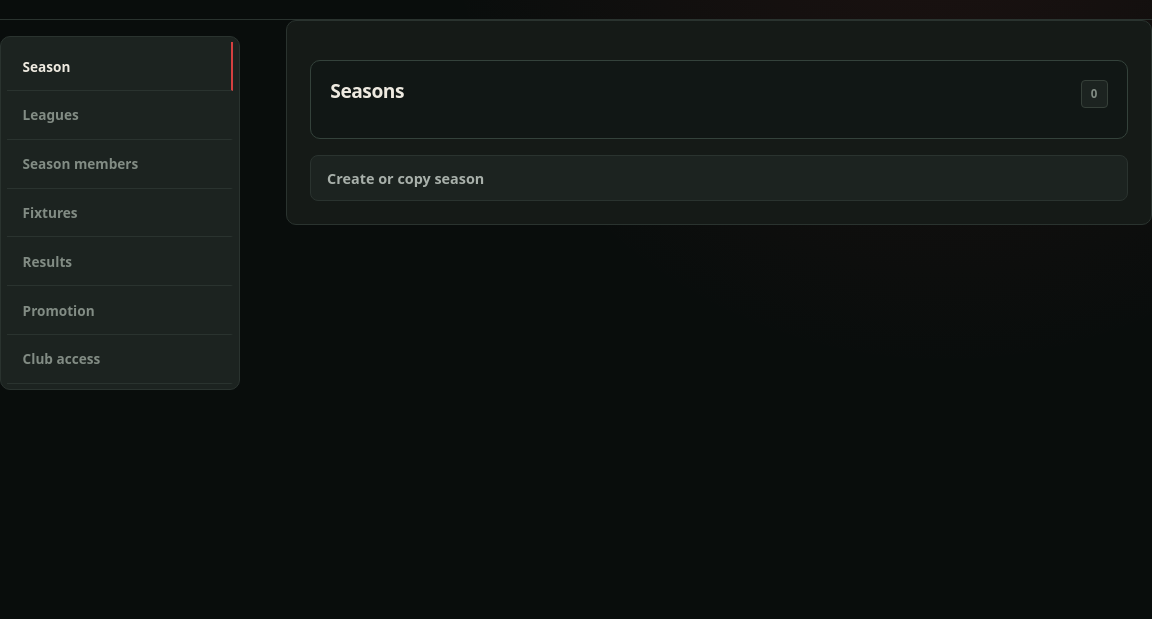
Scenario: admin membership, placement and club-admission controls › shows club-wide invite usage, expiry and revocation with a working copy action
This screenshot has width=1152, height=619.
Click the tab "Club access" at x=120, y=359, box top-left (7, 335), bottom-right (233, 384)
(page scrolled)
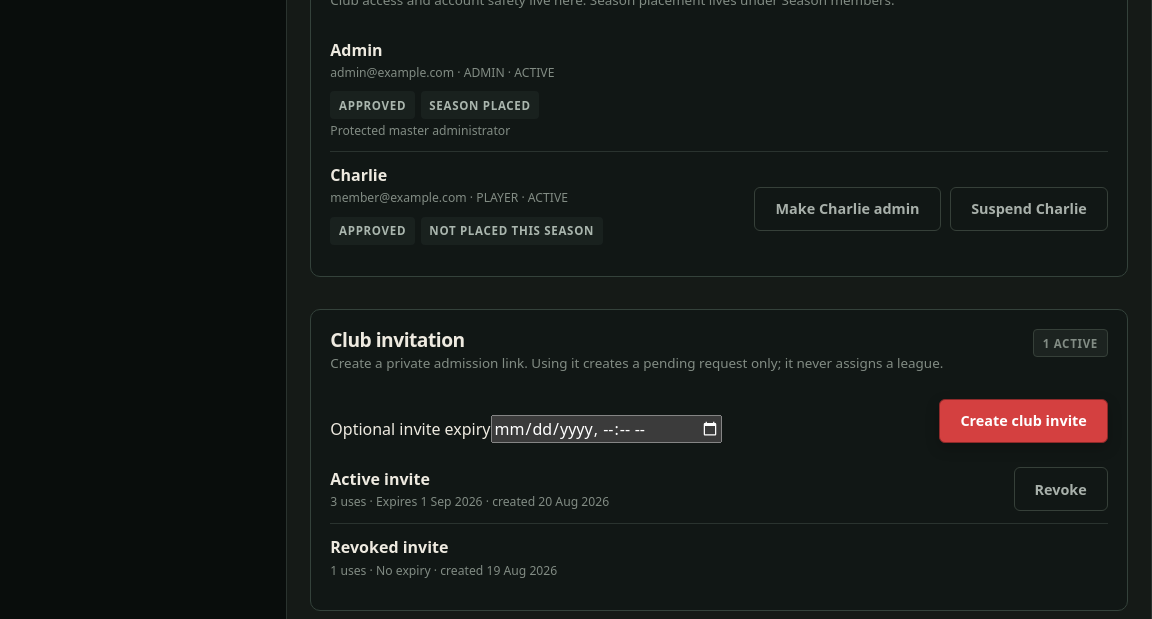
Now the text "3 uses · Expires 1 Sep 2026 · created 20 Aug 2026" is shown, box top-left (330, 494), bottom-right (609, 510)
Now the text "Revoked invite" is shown, box top-left (330, 536), bottom-right (448, 558)
Click the button "Create club invite" at x=1024, y=421, box top-left (939, 399), bottom-right (1108, 443)
(page scrolled)
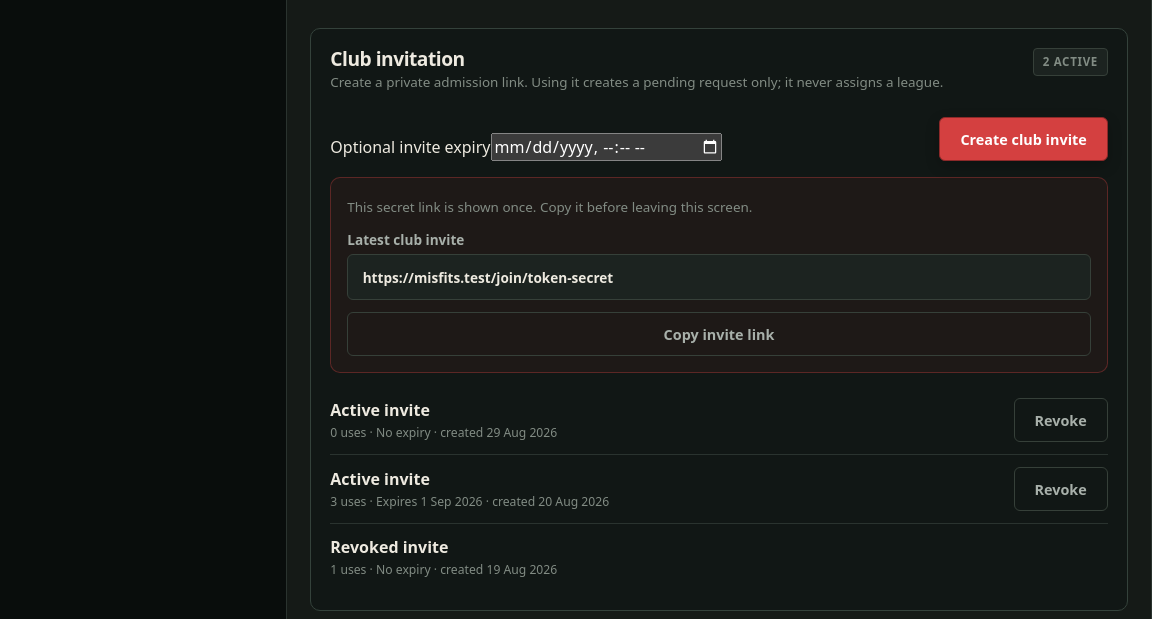
Now the field showing "https://misfits.test/join/token-secret" is shown, box top-left (347, 254), bottom-right (1091, 300)
Click the button "Copy invite link" at x=719, y=334, box top-left (347, 312), bottom-right (1091, 356)
(page scrolled)
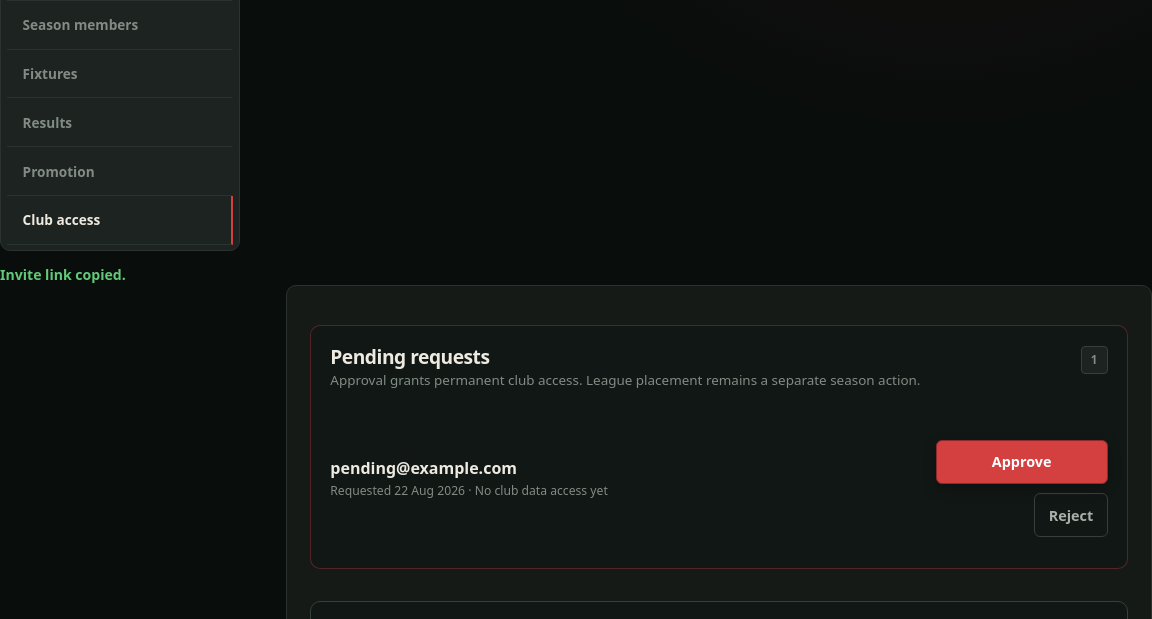
Now the text "Invite link copied." is shown, box top-left (0, 265), bottom-right (126, 284)
